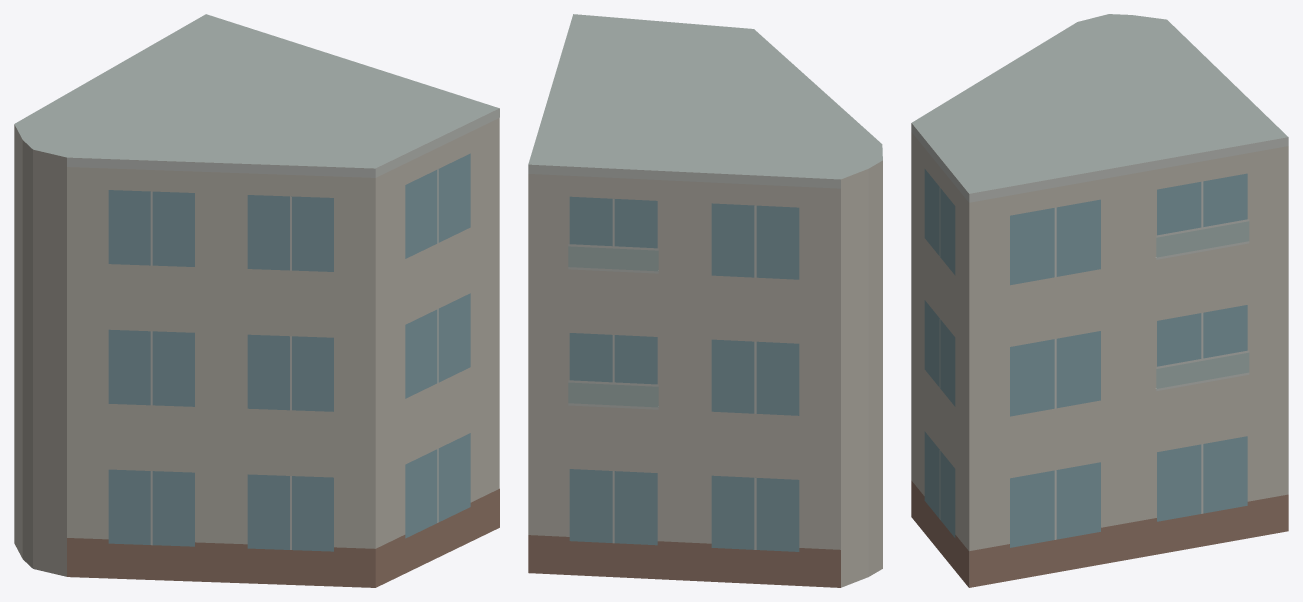
Rendered from survey-upis-32616035.glb.
3 views of the same model, side by side, from view 1: azimuth 30°, elevation 25°; view 2: azimuth 150°, elevation 25°; view 3: azimuth 270°, elevation 25° (orthographic). The views are drawn at different scales.
Parts seen in each view (by area): view 1: survey-upis-32616035.tmp; view 2: survey-upis-32616035.tmp; view 3: survey-upis-32616035.tmp.
Part boxes in pixels (x1,y1,x2,y2): survey-upis-32616035.tmp: (14, 14, 499, 587); survey-upis-32616035.tmp: (528, 14, 882, 587); survey-upis-32616035.tmp: (911, 14, 1288, 587).
Bounding box in the file's own units: 10.58 × 10.8 × 9.38.
